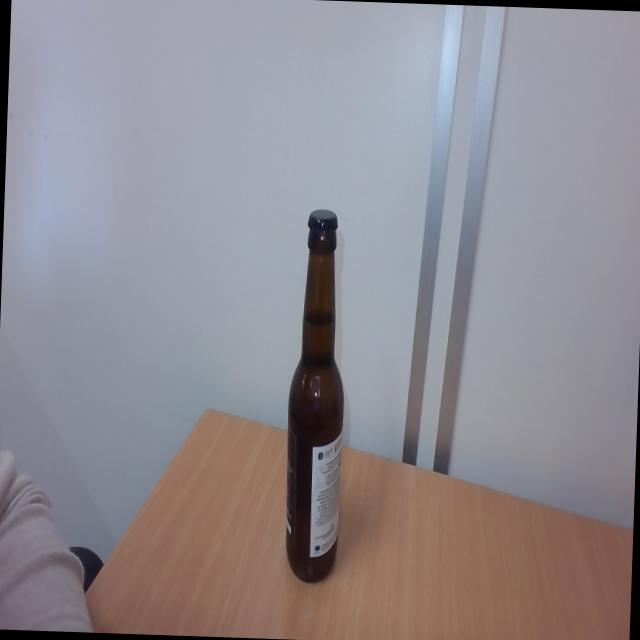Bottle: (282, 238, 349, 586)
Cap: (306, 207, 340, 241)
Label: (282, 436, 342, 556)
